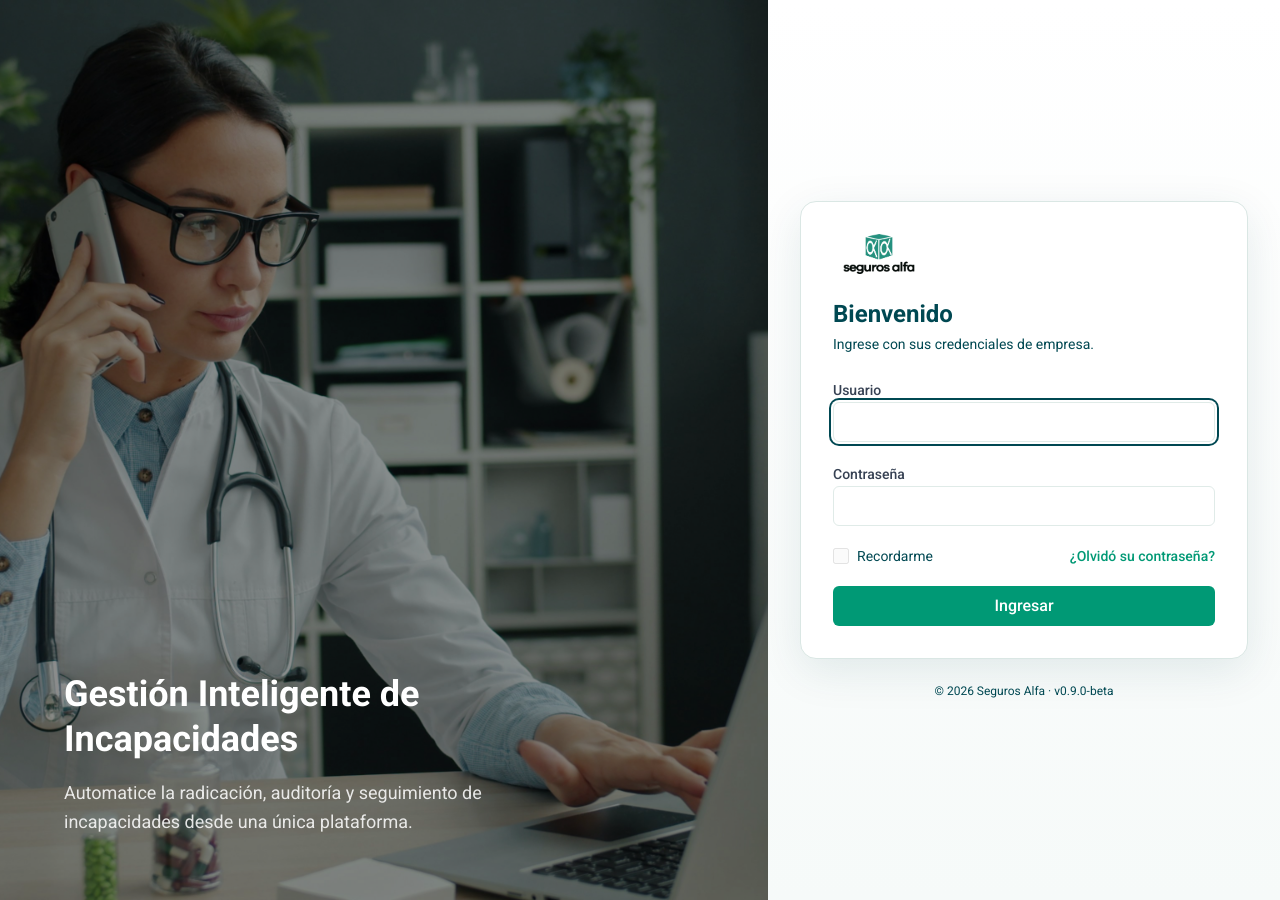
it: LoginPage › shows a contact message when clicking "¿Olvidó su contraseña?"
This screenshot has width=1280, height=900.
Click the button "¿Olvidó su contraseña?". click: (1142, 556)
box: [1070,546,1215,566]
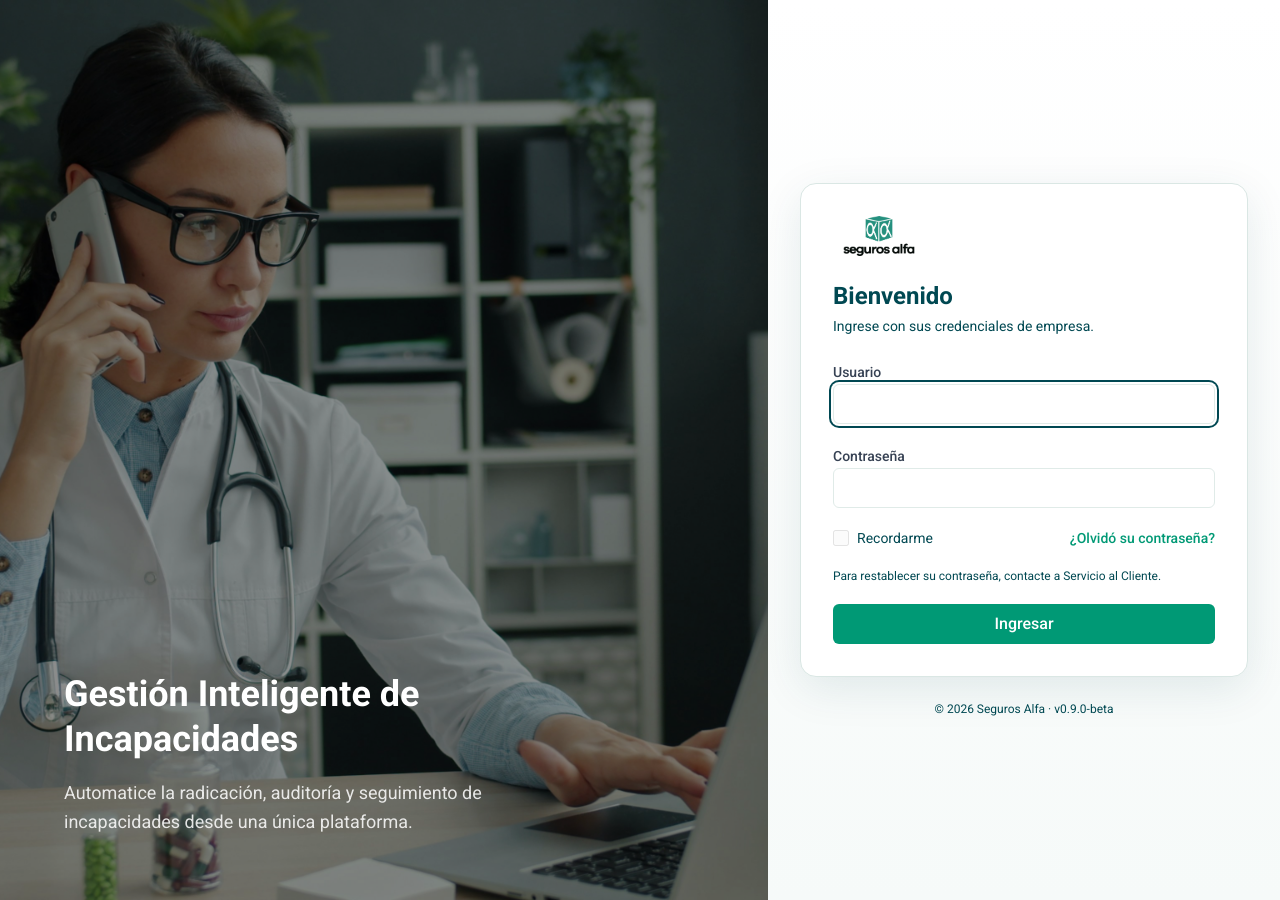
Now the text "contacte a Servicio al Cliente" is shown, box [833,569,1161,583]
